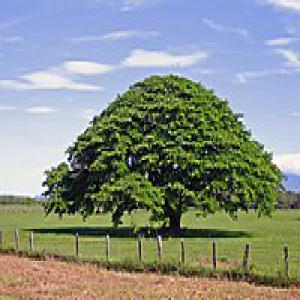Tree: (39, 69, 276, 231)
